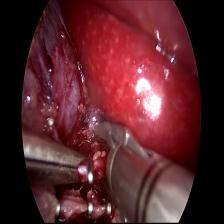Clipper: (86, 109, 150, 214)
Grasper: (19, 124, 89, 190)
